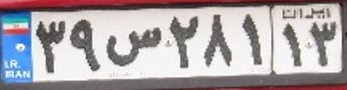character: (103, 19, 165, 72), (165, 10, 202, 74), (32, 16, 70, 78), (200, 9, 238, 71), (67, 16, 104, 77), (237, 9, 267, 72), (309, 19, 338, 70), (278, 22, 306, 71)
